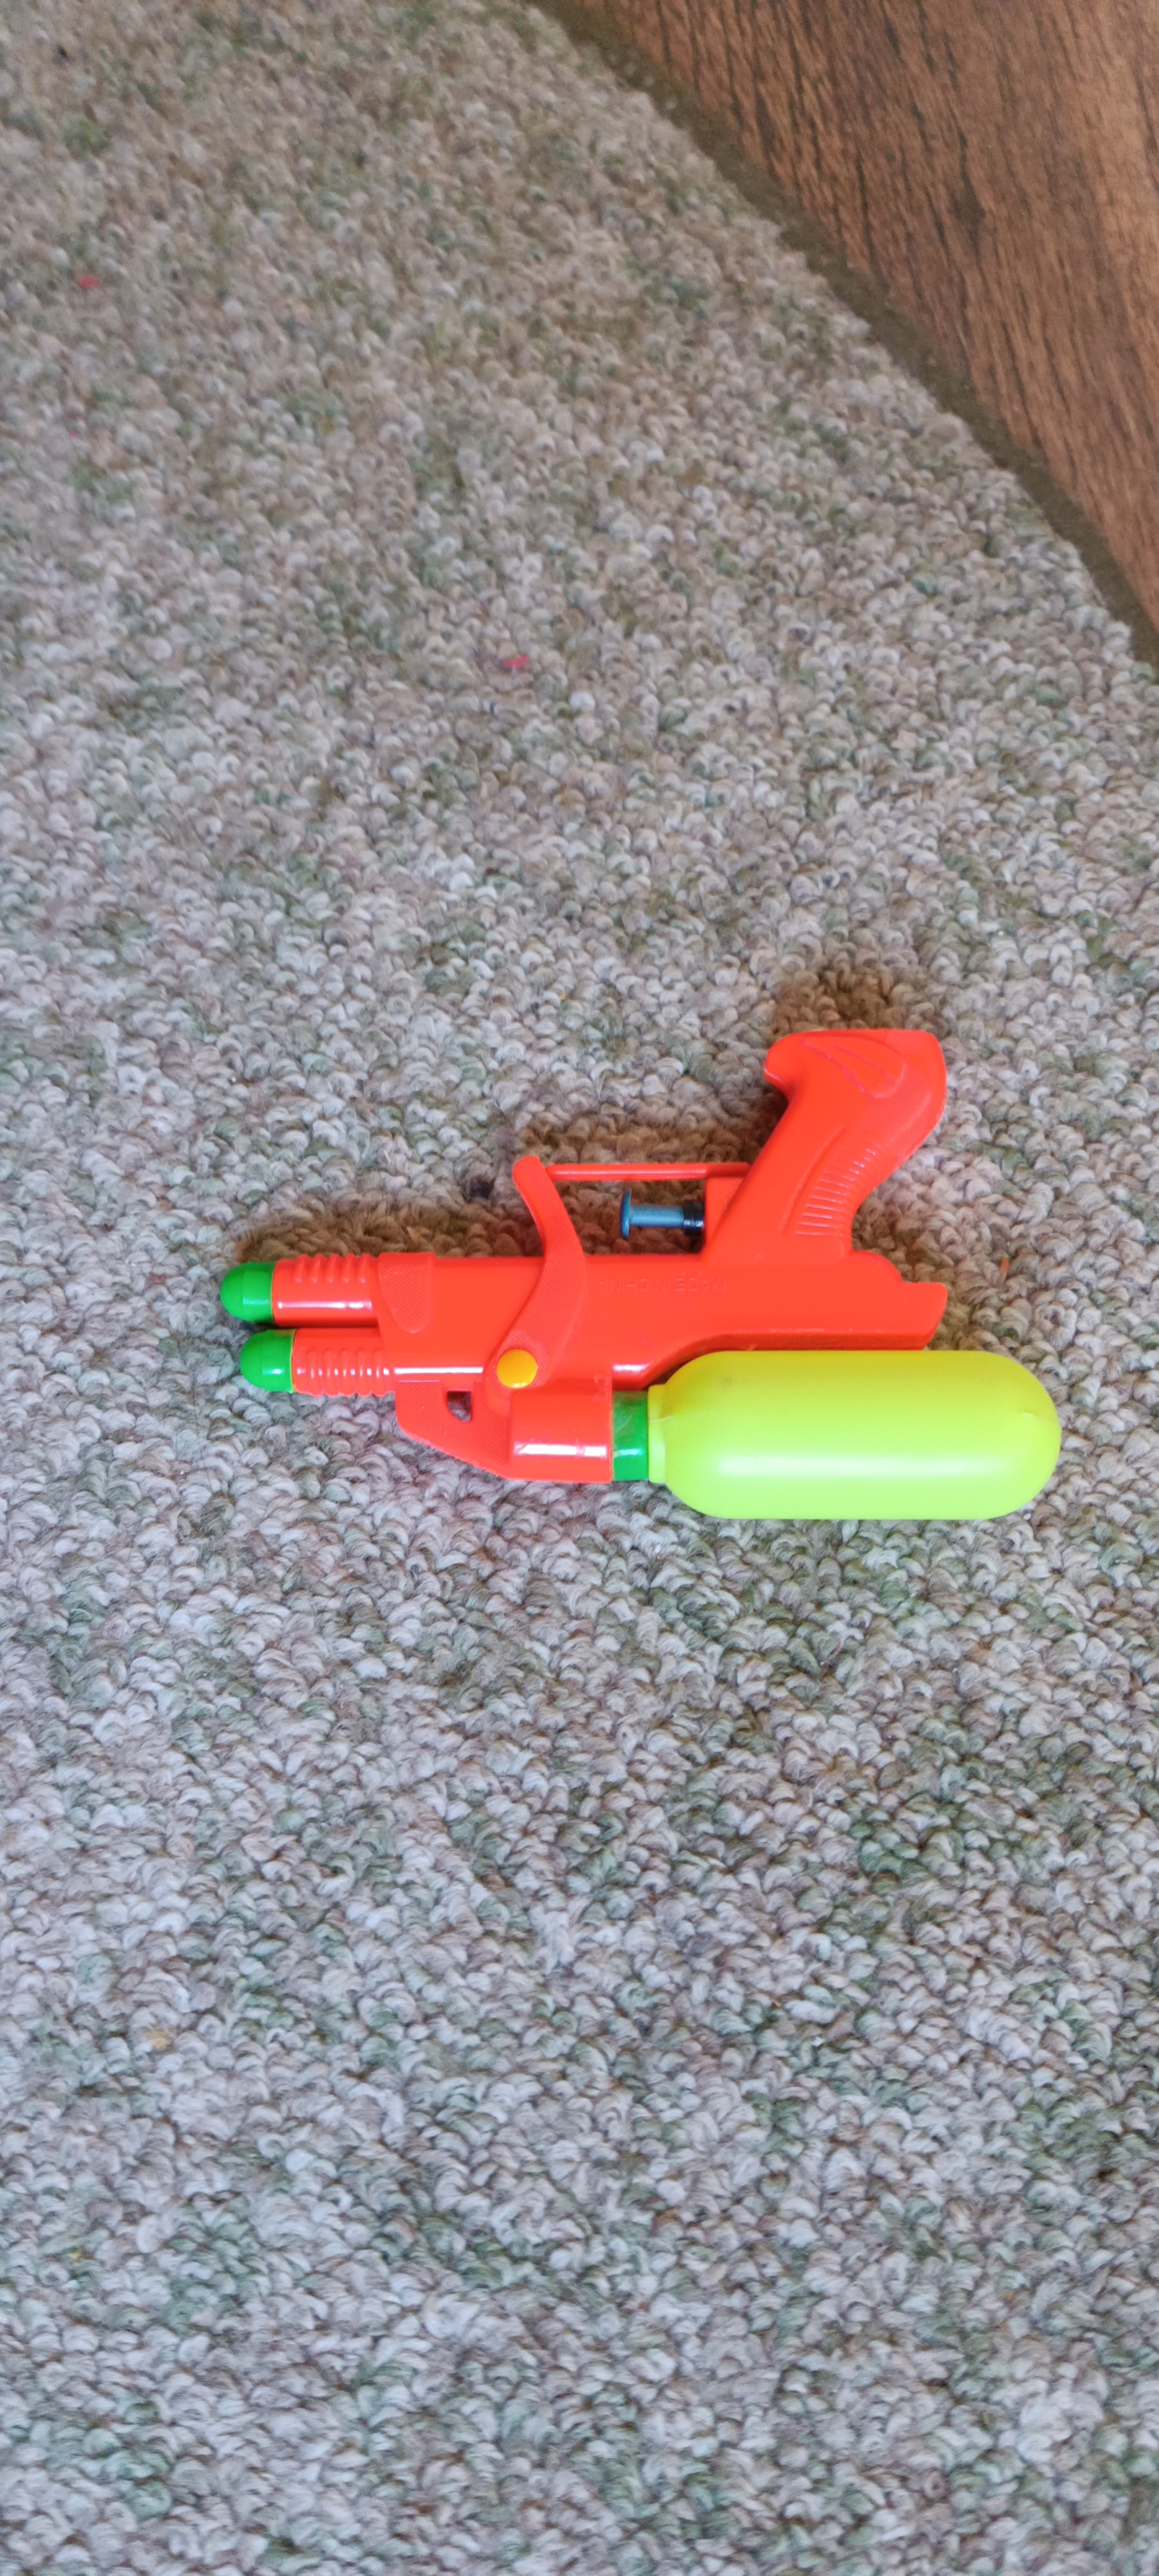Water Gun: (215, 1028, 1061, 1521)
